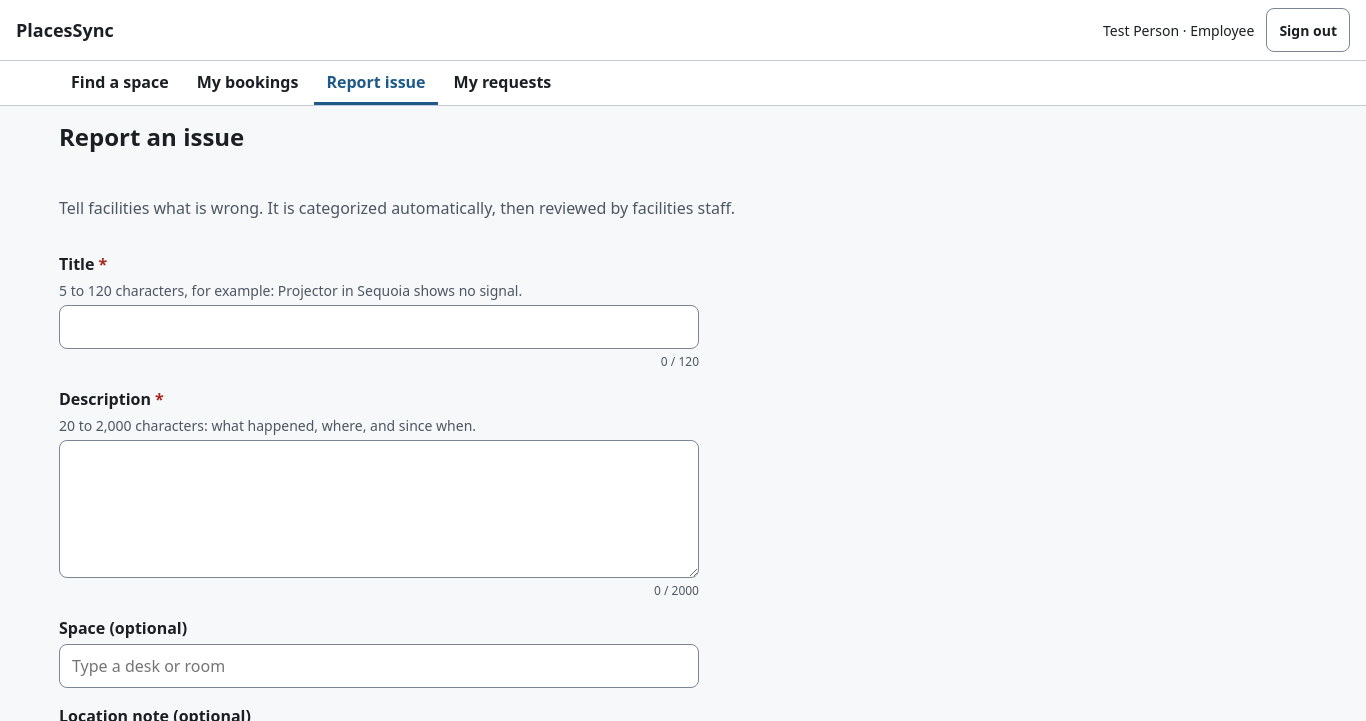
Test: Report an issue (SPEC 14.1) › maps server 422 issues to fields
The width and height of the screenshot is (1366, 721).
Type "Projector has no signal" into the field labelled "Title*" at (379, 327), box [59,305,699,349]
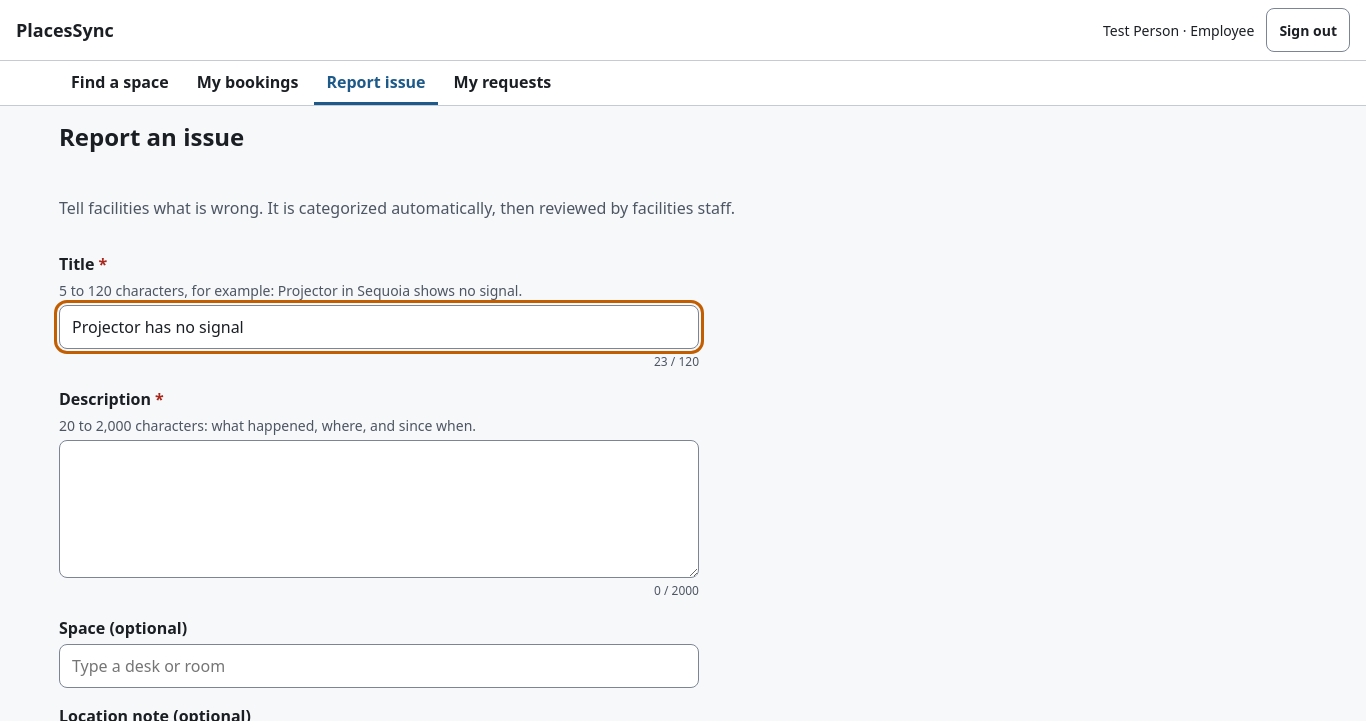
Type "The projector in Sequoia shows no signal from HDMI." into the text box labelled "Description*" at (379, 509), box [59,440,699,578]
(page scrolled)
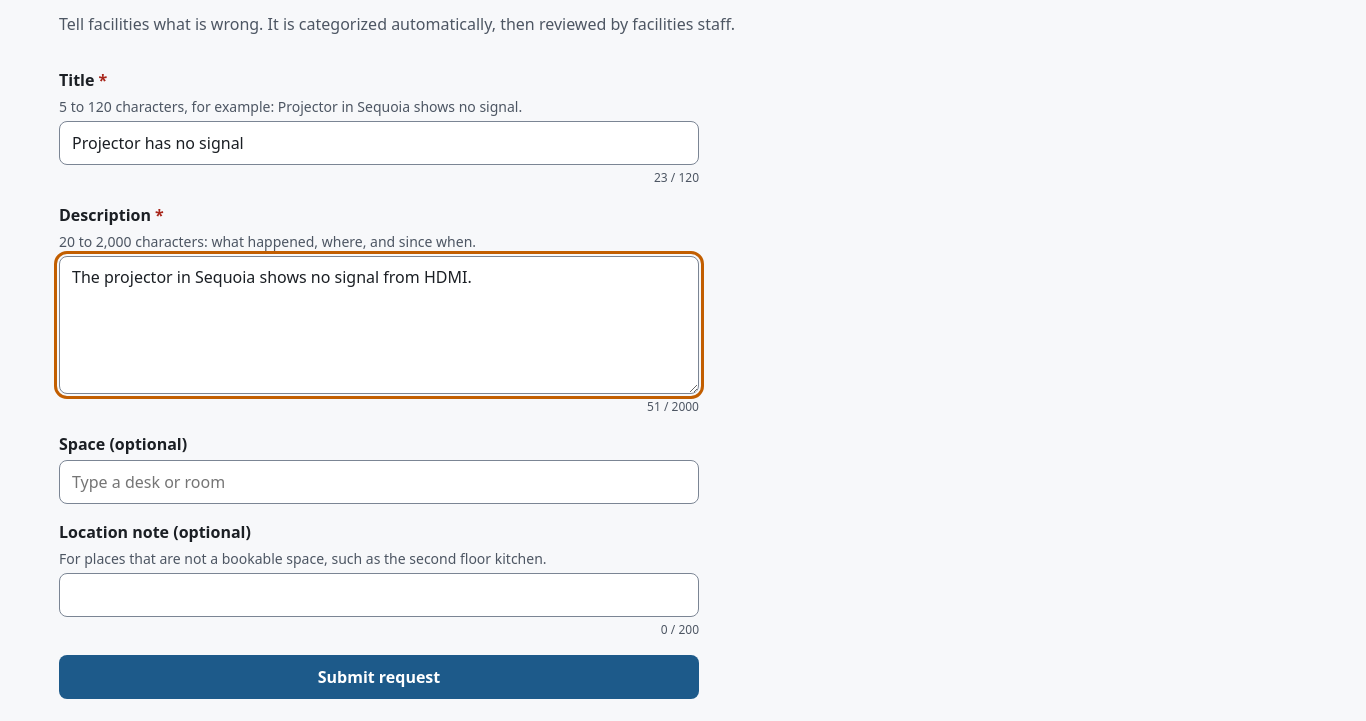
Click the button "Submit request" at (379, 677), box [59,655,699,699]
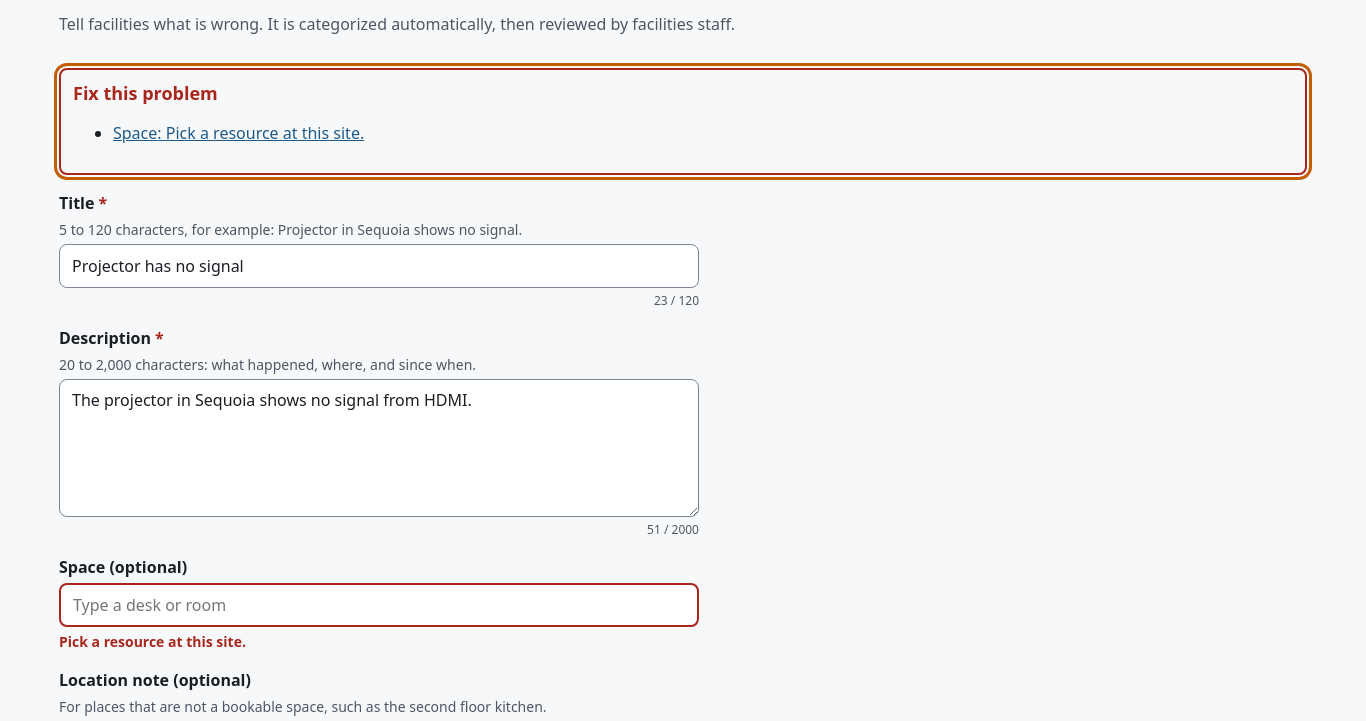
Expected: the link "Space: Pick a resource at this site." is shown, [113,122,364,144]
